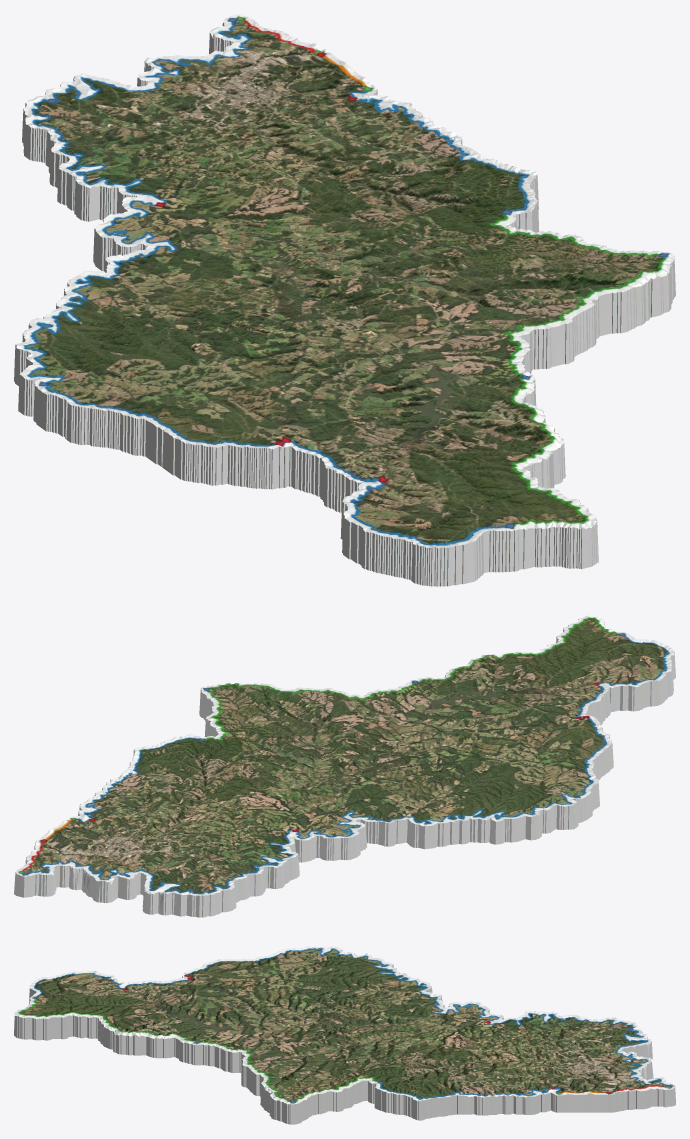
3 views of the same model, one above another, from view 1: azimuth 30°, elevation 25°; view 2: azimuth 150°, elevation 25°; view 3: azimuth 270°, elevation 25° (orthographic). The views are drawn at different scales.
Bounding box in the file's own units: 1 × 0.0645 × 1.75.
1 material, 1 textured.
